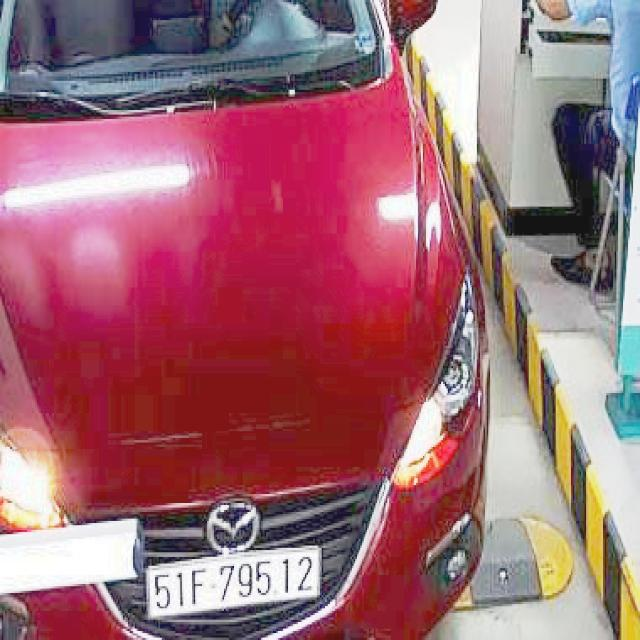license_plate: (148, 545, 321, 622)
